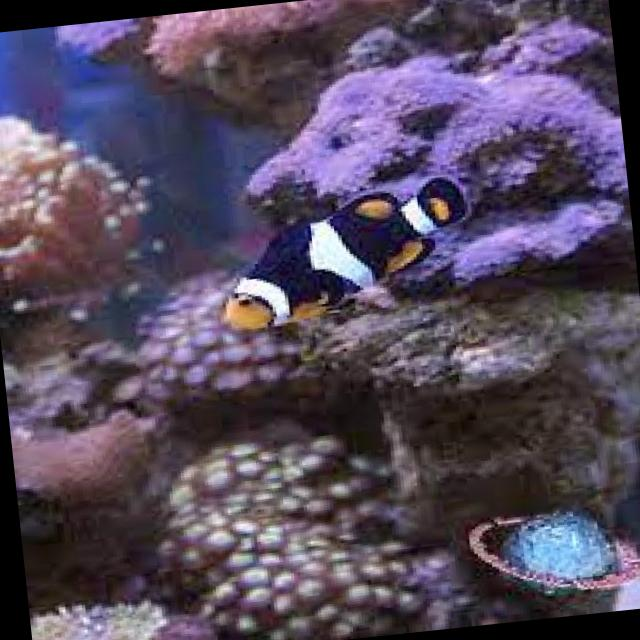ClownFish: (189, 163, 491, 351)
